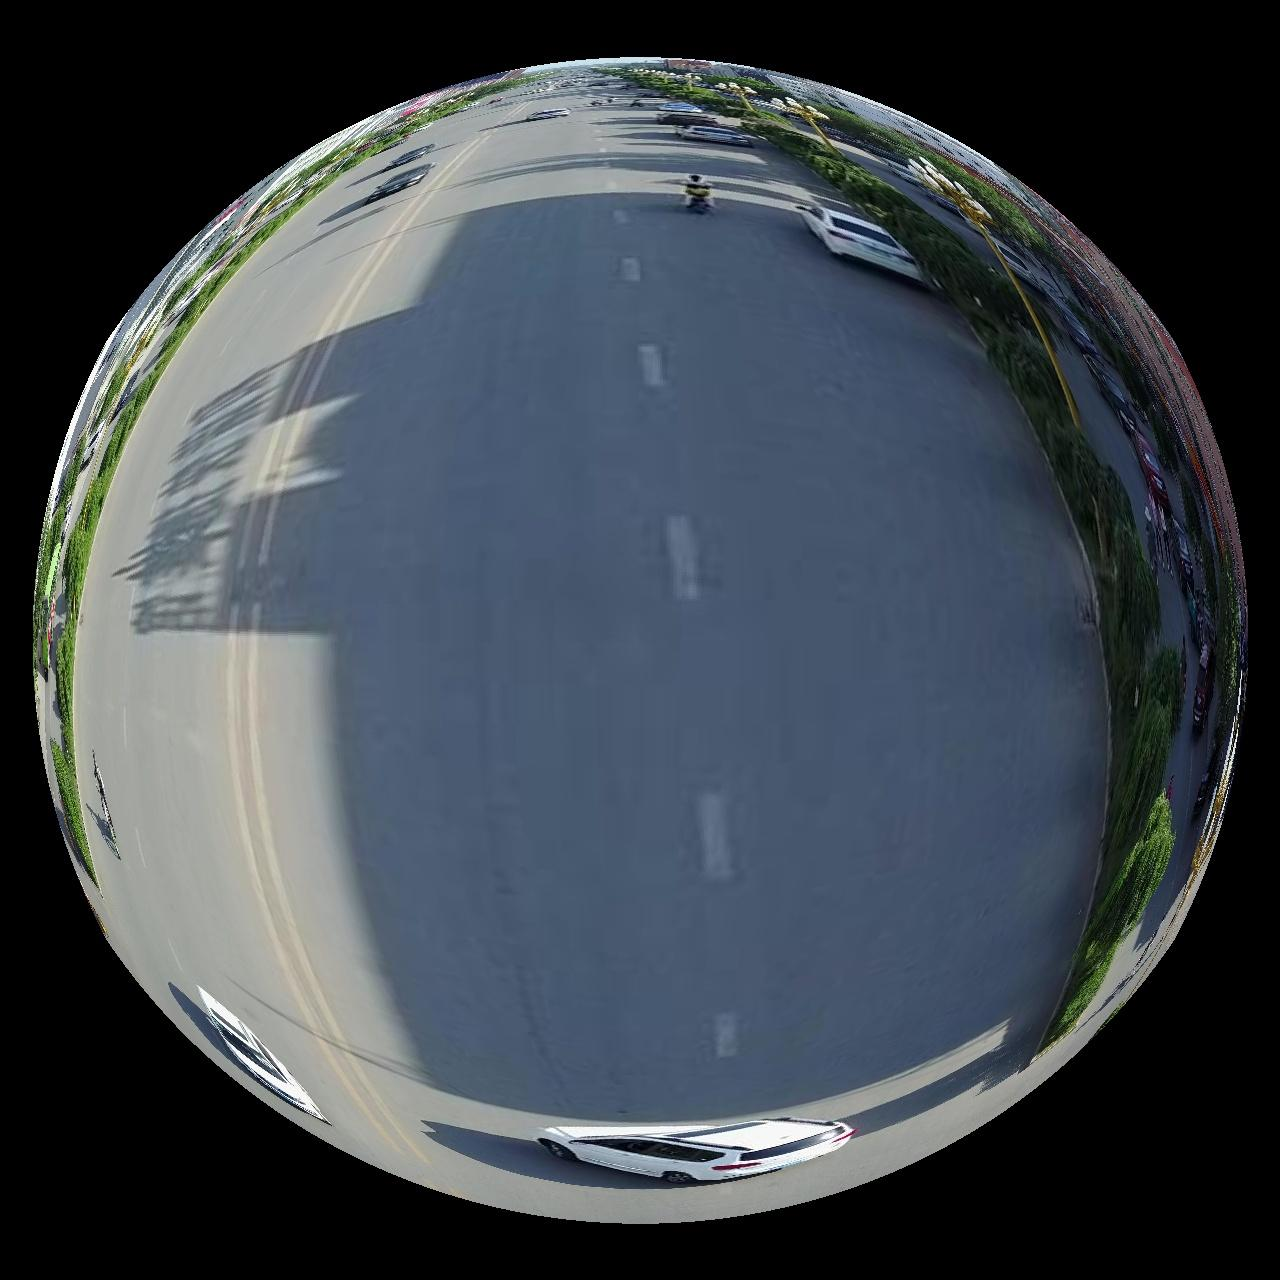cars: (537, 1119, 857, 1186), (197, 988, 328, 1125), (798, 203, 926, 282), (366, 163, 433, 200), (392, 143, 434, 166), (526, 105, 570, 121)
trees: (1043, 420, 1191, 1049)
